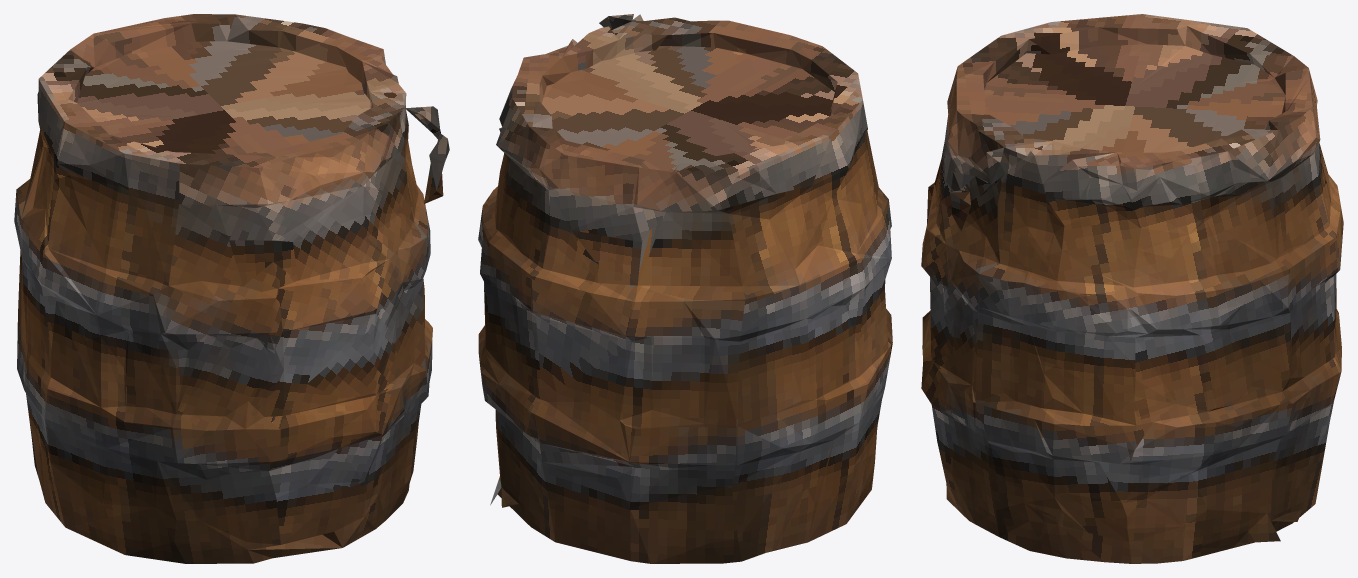
Rendered from barrel.glb.
3 views of the same model, side by side, from view 1: azimuth 30°, elevation 25°; view 2: azimuth 150°, elevation 25°; view 3: azimuth 270°, elevation 25° (orthographic).
Parts seen in each view (by area): view 1: barrel; view 2: barrel; view 3: barrel.
Boxes of the visible parts, x1=… form: barrel: x1=14, y1=14, x2=449, y2=563; barrel: x1=478, y1=14, x2=892, y2=563; barrel: x1=921, y1=14, x2=1343, y2=563.
Bounding box in the file's own units: 0.5707 × 0.5996 × 0.5758.
1 material, 1 textured.
